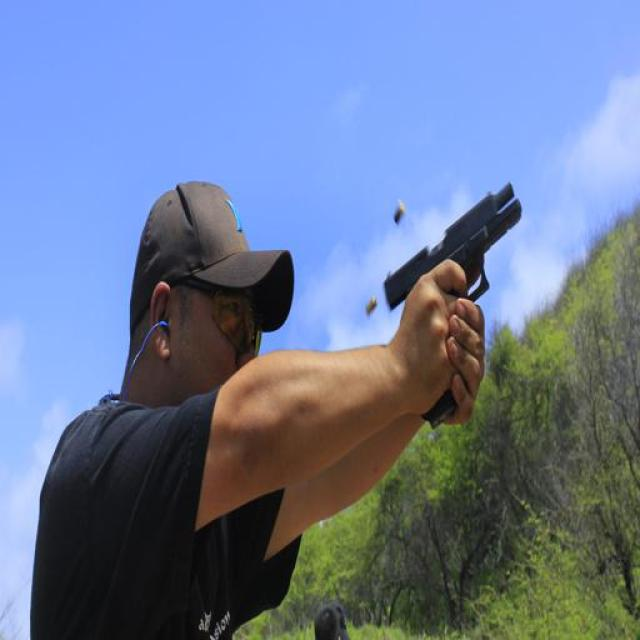pistol: (375, 159, 535, 405)
